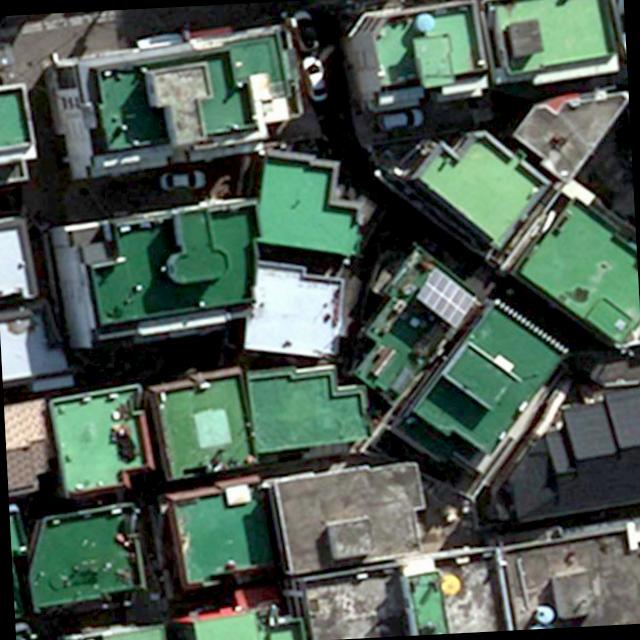solar: (409, 261, 481, 333)
